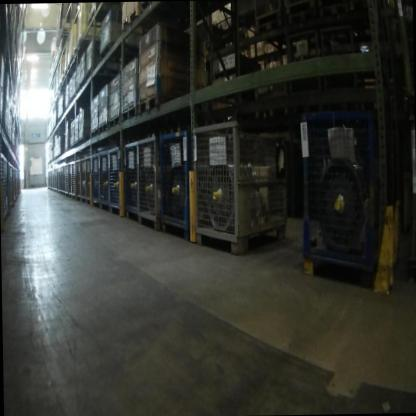pallet: (120, 4, 163, 35), (137, 89, 182, 112), (103, 37, 138, 66), (86, 7, 107, 37), (120, 103, 139, 124), (75, 34, 88, 54), (106, 115, 119, 133), (97, 117, 108, 138), (56, 28, 71, 41), (76, 136, 88, 148), (88, 126, 97, 141)
stillage: (291, 101, 382, 280), (192, 112, 297, 261), (157, 120, 195, 244), (137, 131, 161, 236), (123, 136, 141, 224), (109, 141, 124, 216), (98, 143, 112, 213), (90, 144, 103, 210), (0, 150, 11, 223), (85, 152, 94, 207), (5, 157, 13, 212), (74, 156, 82, 203), (80, 153, 87, 206), (71, 159, 77, 199), (68, 161, 73, 197), (64, 163, 69, 198), (12, 161, 16, 204), (62, 164, 66, 196), (60, 165, 64, 193), (58, 166, 61, 194), (56, 167, 59, 193), (55, 167, 58, 193), (59, 165, 61, 195)
